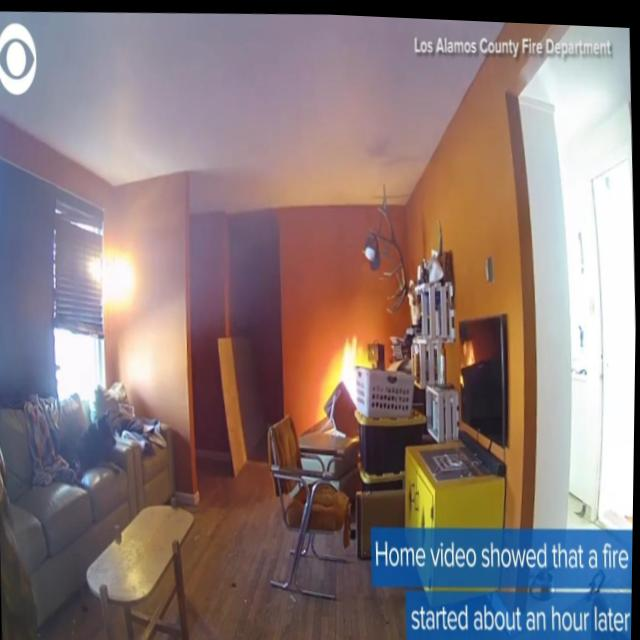fire: (329, 321, 371, 404)
